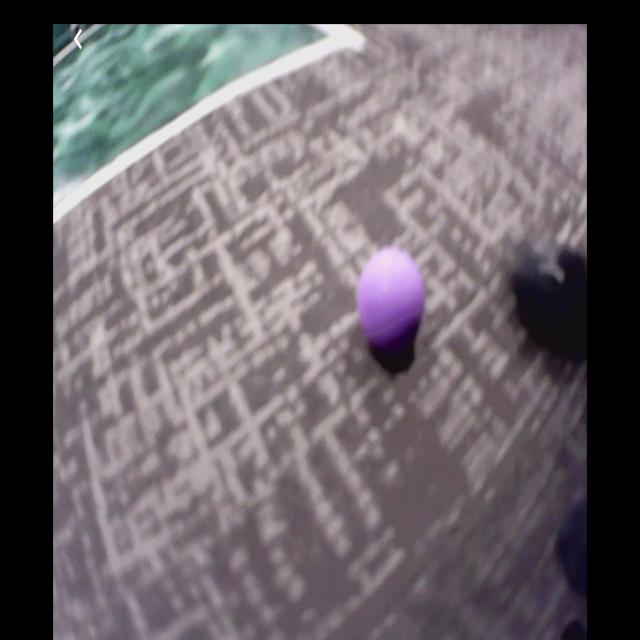ball: (360, 244, 424, 347)
